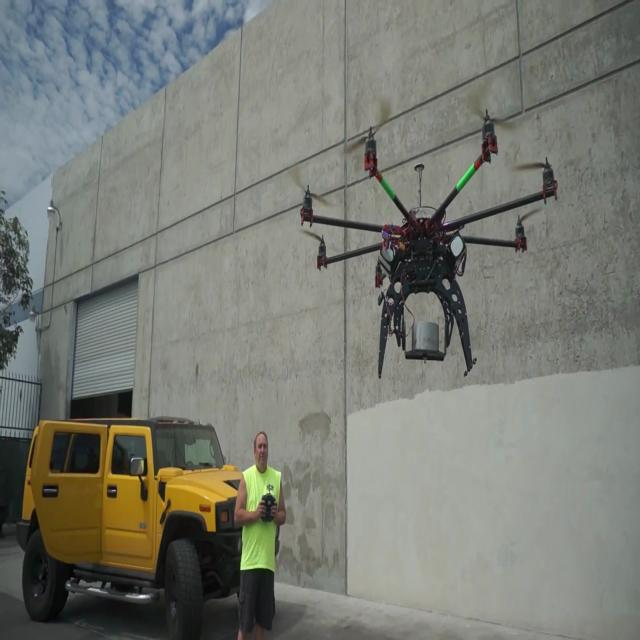drone: (291, 112, 546, 415)
